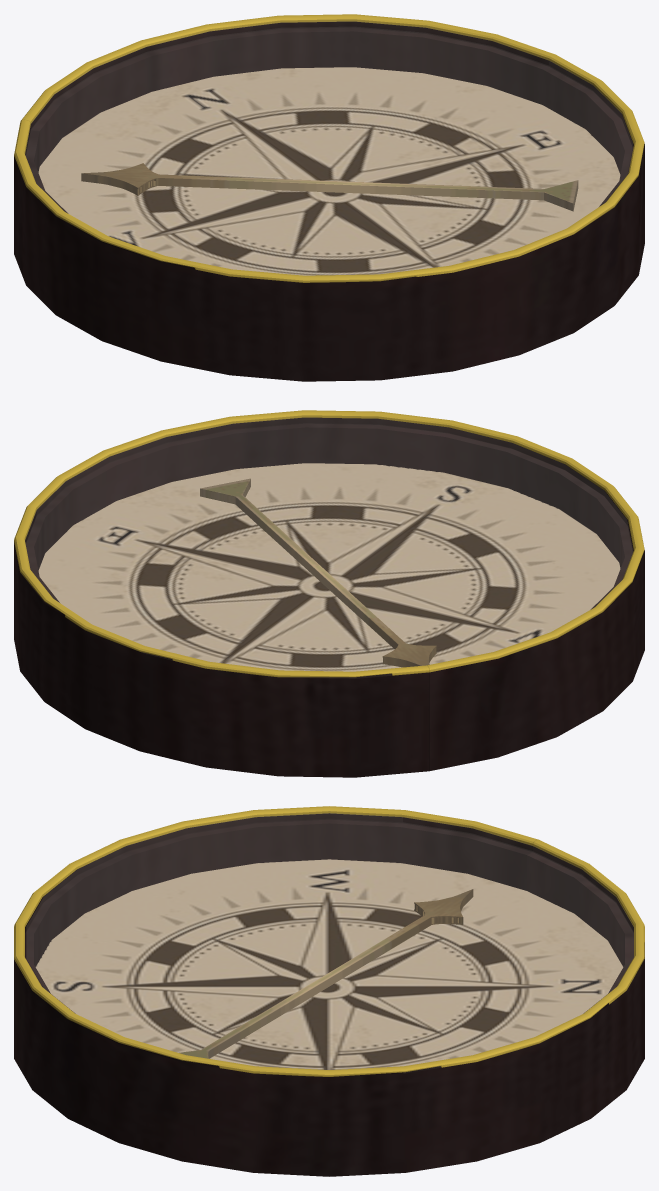
Rendered from Kompass high poly.fbx.
3 views of the same model, one above another, from view 1: azimuth 30°, elevation 25°; view 2: azimuth 150°, elevation 25°; view 3: azimuth 270°, elevation 25° (orthographic).
Visible parts, largest first — view 1: Cylinder001, Cylinder002, Line001; view 2: Cylinder001, Cylinder002, Line001; view 3: Cylinder001, Cylinder002, Line001.
Part boxes in pixels (x1,y1,x2,y2): Cylinder001: (14,14,644,381); Cylinder002: (26,21,632,275); Line001: (81,163,578,211); Cylinder001: (14,410,644,777); Cylinder002: (25,417,632,671); Line001: (200,478,436,667); Cylinder001: (14,806,644,1176); Cylinder002: (26,813,633,1069); Line001: (179,889,473,1058).
Bounding box in the file's own units: 71.84 × 12.88 × 71.31.
Materials: 2 (1 with a texture image).
